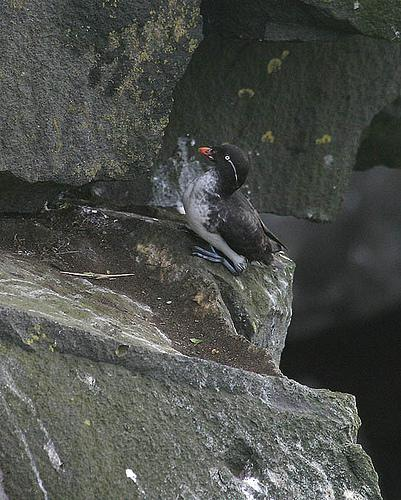007.Parakeet_Auklet: (178, 140, 290, 274)
